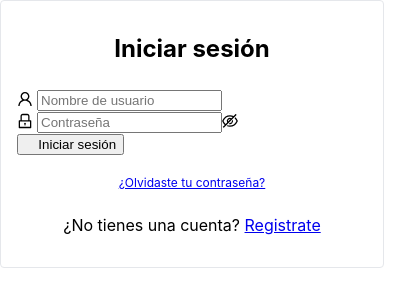
it: Sign in form works correctly › Should display a loading spinner when the submit button is pressed.
What coordinates should you click on to do the following:
click the button "Iniciar sesión"
I would click on:
 (71, 145)
Its box is [17,134,124,155].
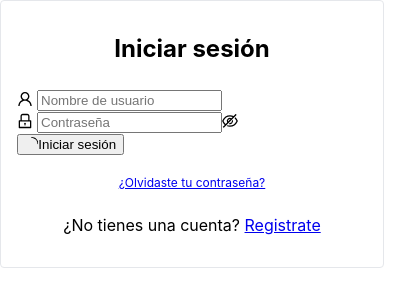
expect the picture named "loading" is shown: met, box [25,137,38,151]
